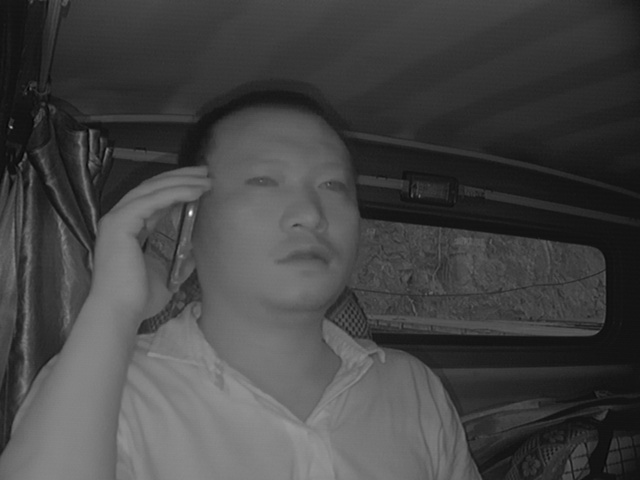hand: (93, 163, 205, 322)
